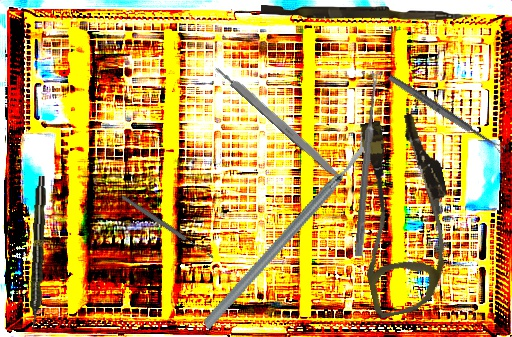Cannula: (336, 109, 470, 320)
Chopper: (159, 129, 412, 331)
Handpiece: (26, 175, 49, 331)
Pusher: (261, 5, 471, 20)
Scalpel Handle: (212, 61, 347, 184)
Surgical Spoon: (387, 73, 506, 155), (119, 193, 216, 261), (354, 72, 380, 257)
